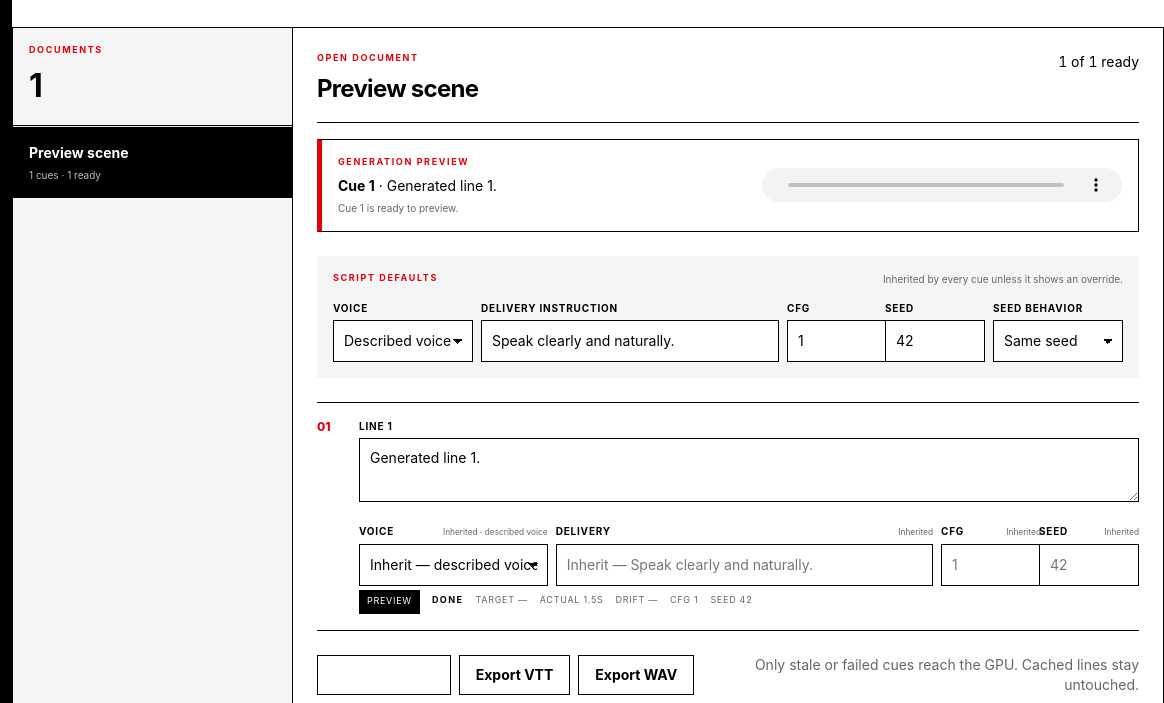
Scenario: script generation preview › keeps playback failures beside the player with a recovery path
(page scrolled)
Click the button with aria-label "Preview cue 1" at (389, 602), box [359,590,420,614]
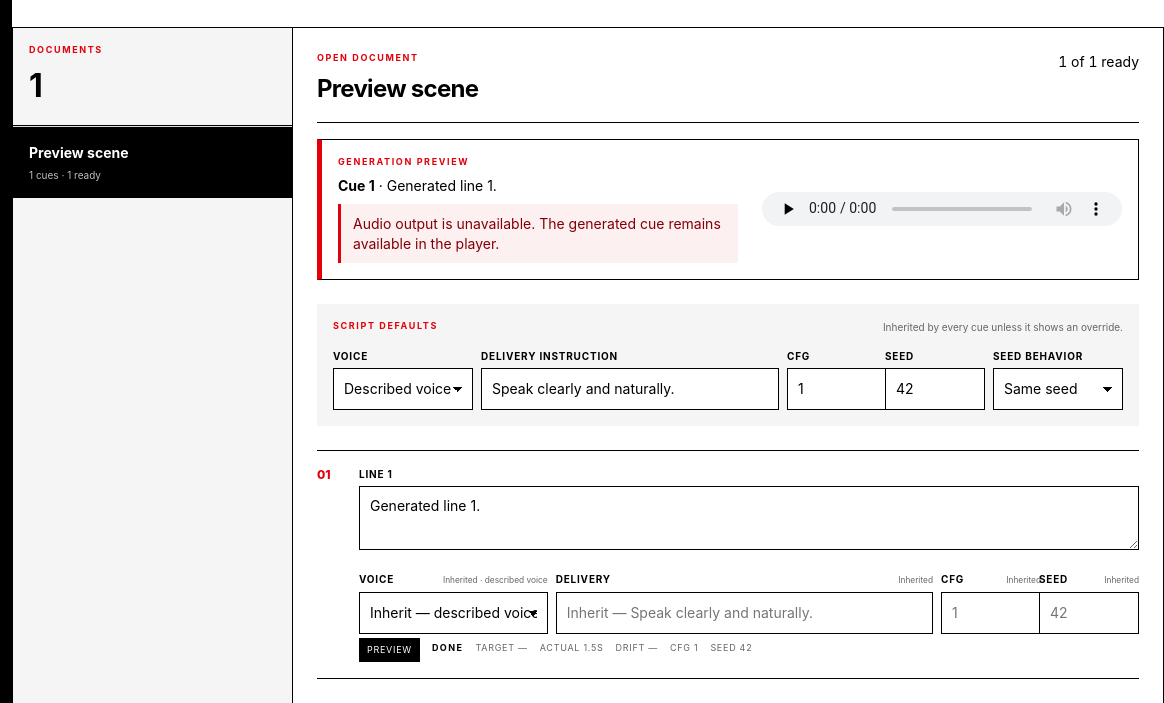
Now the 2nd message reads "Audio output is unavailable. The generated cue remains available in the player.", box [353,215,721,252]
